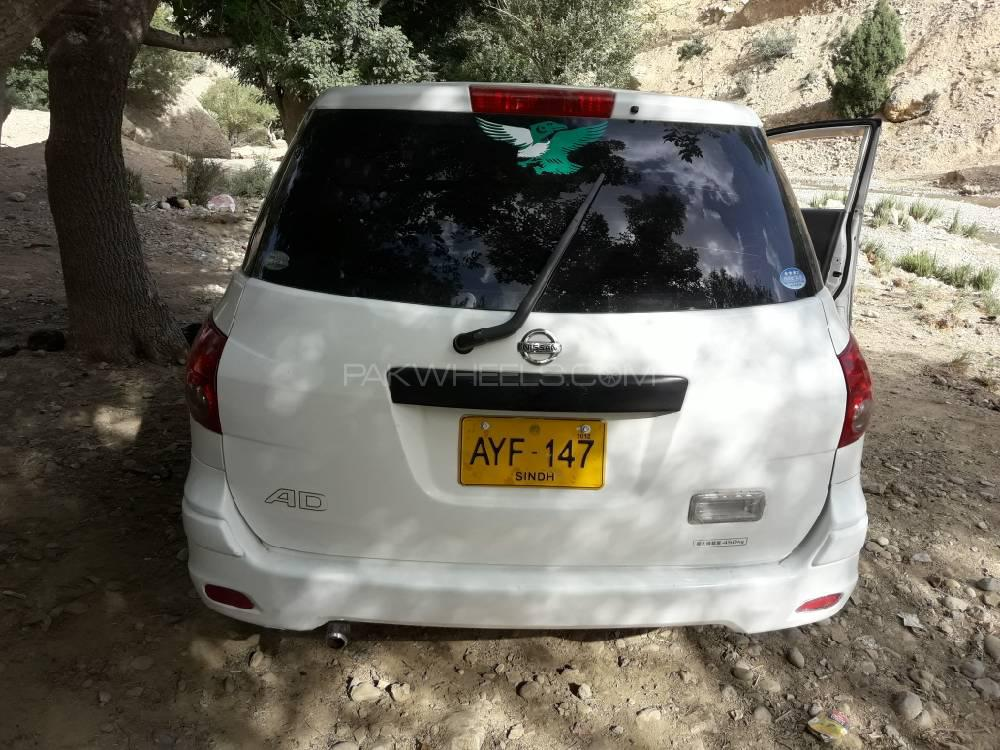license plate: (462, 415, 604, 484)
